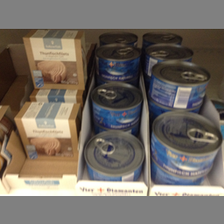fish: (150, 109, 222, 179), (13, 101, 80, 160), (23, 30, 87, 89), (147, 60, 210, 109), (83, 129, 143, 180), (91, 81, 141, 129), (95, 43, 140, 81)
